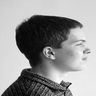ear: (40, 43, 59, 62)
